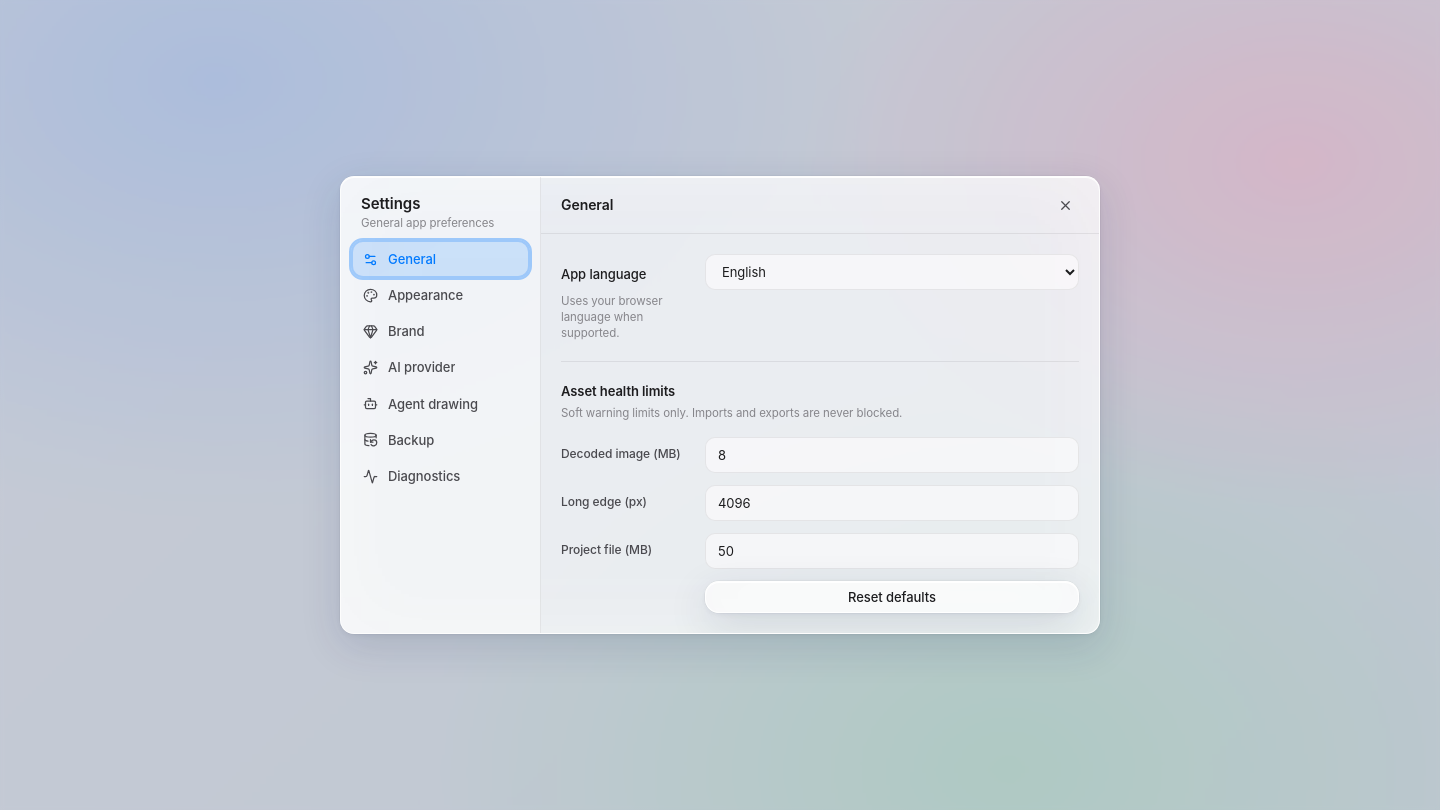
Test: phase F — settings hardening › opens the settings modal without crashing when loaded state is stale
The width and height of the screenshot is (1440, 810).
expect the dialog "Settings" is shown: met, box [340, 176, 1100, 634]
Click the tab "AI provider".
click(440, 368)  # box [353, 350, 528, 385]
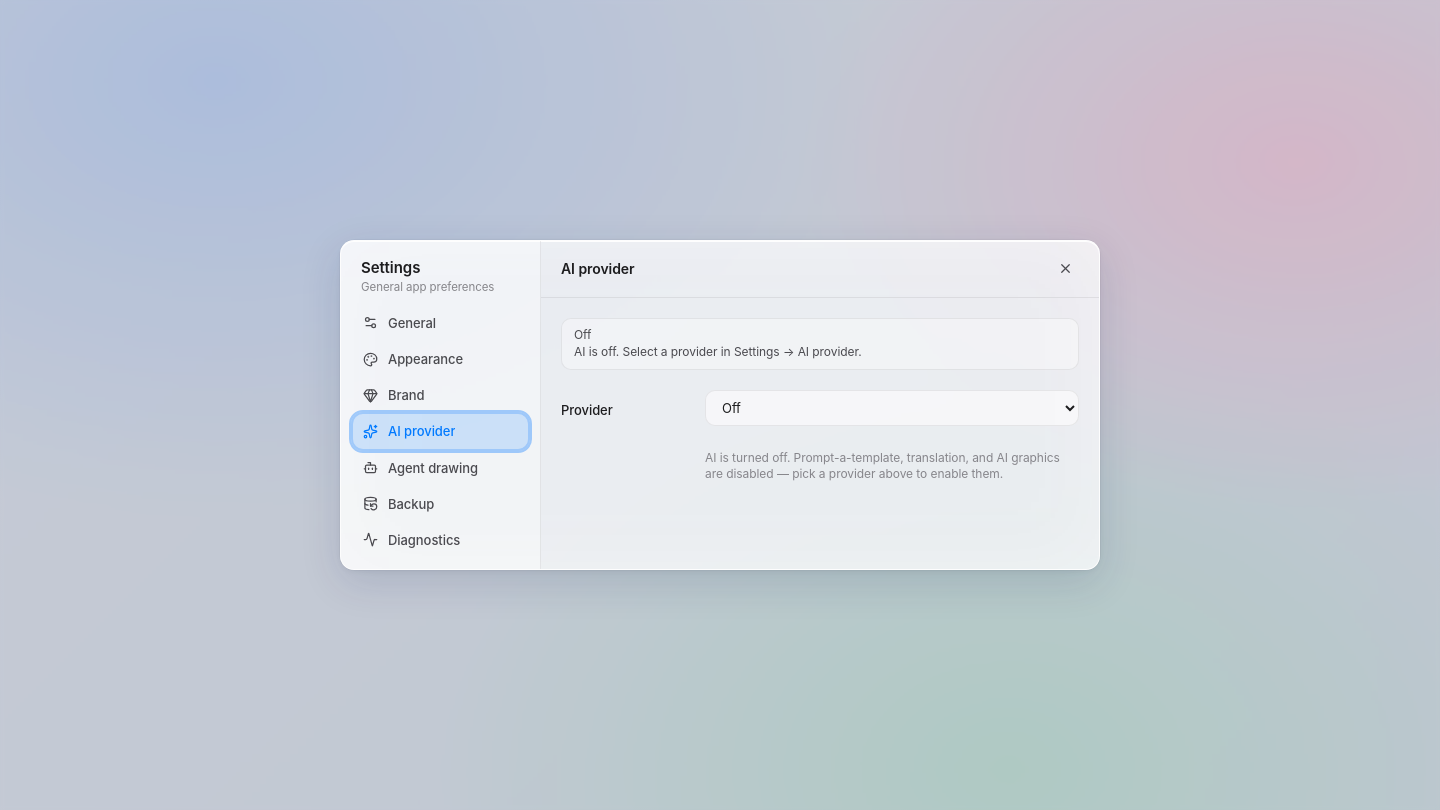
expect the text "AI is turned off" is shown: met, box [705, 450, 1060, 481]
